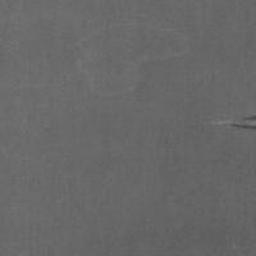Inclusion: (201, 114, 255, 131)
